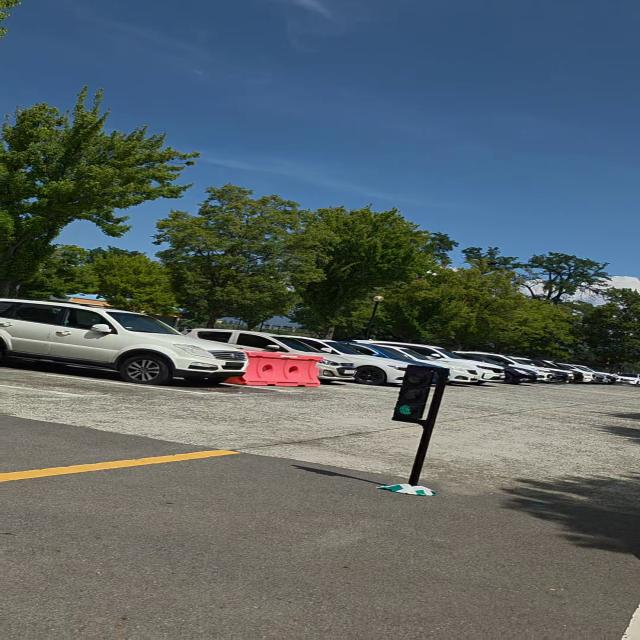green: (389, 364, 442, 424)
